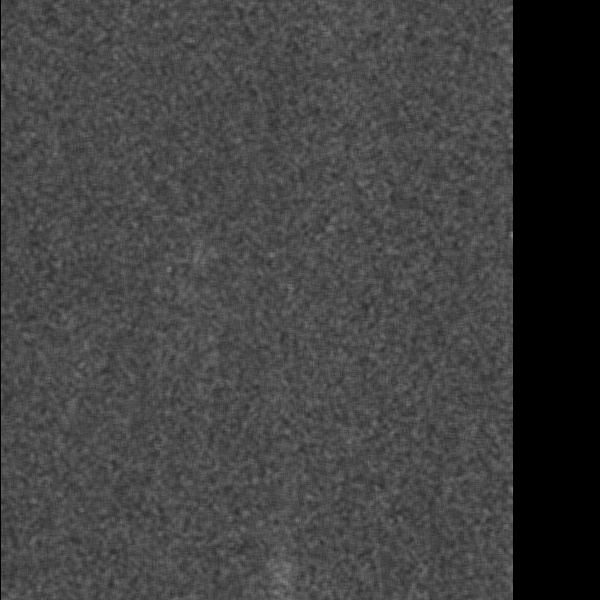spark: (265, 566, 304, 591)
